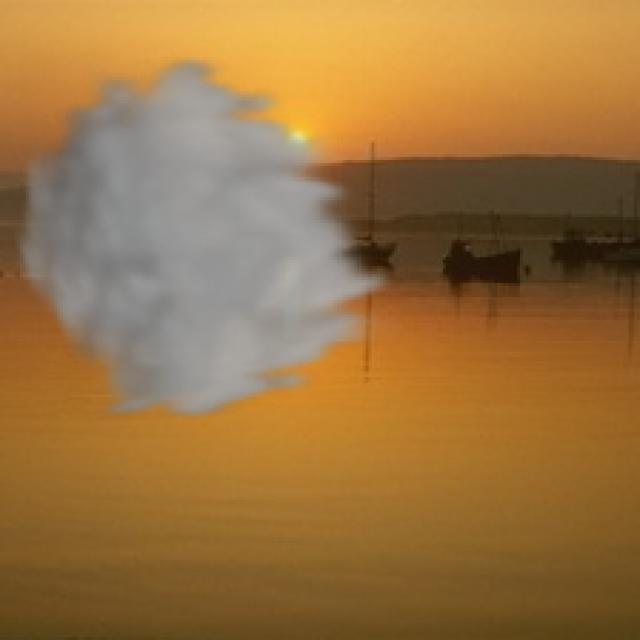smoke: (8, 51, 406, 423)
